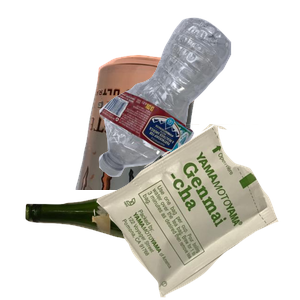glass: (23, 186, 249, 300)
metal: (73, 52, 263, 232)
plastic: (96, 15, 300, 184)
trash: (91, 124, 300, 300)
